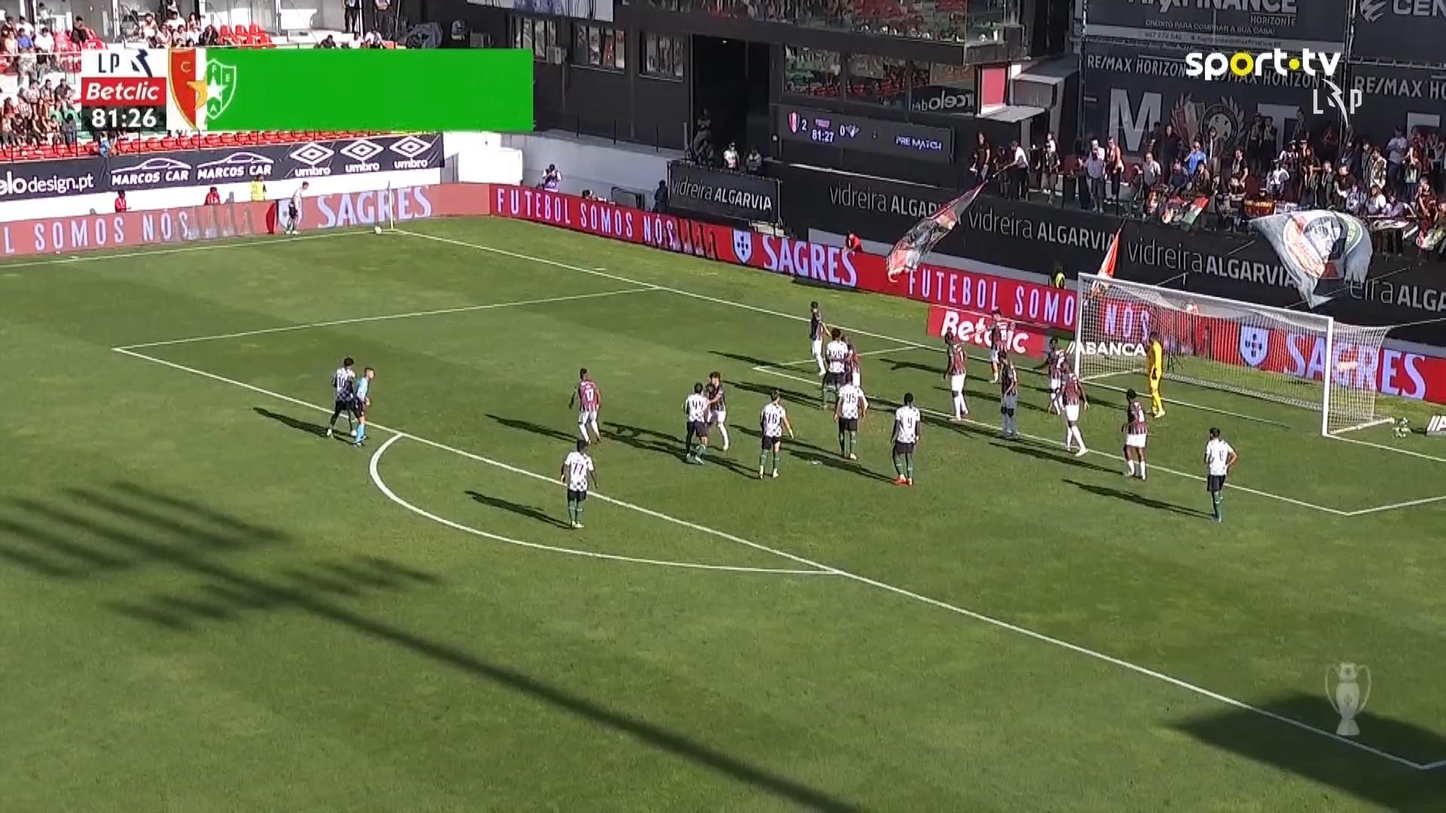ball: (373, 225, 383, 235)
goalkeeper: (1144, 331, 1169, 420)
player: (560, 438, 599, 528), (757, 389, 795, 479), (1057, 362, 1092, 459), (1203, 427, 1237, 523), (564, 367, 602, 446), (1119, 388, 1150, 482), (834, 373, 867, 461), (890, 391, 920, 486), (1034, 335, 1070, 413), (941, 329, 970, 425), (324, 354, 357, 438), (701, 371, 733, 453), (681, 381, 712, 465), (994, 348, 1020, 436), (823, 326, 849, 411), (987, 308, 1011, 382), (806, 297, 826, 376), (283, 181, 310, 239), (843, 333, 861, 398)
referee: (353, 364, 376, 447)
